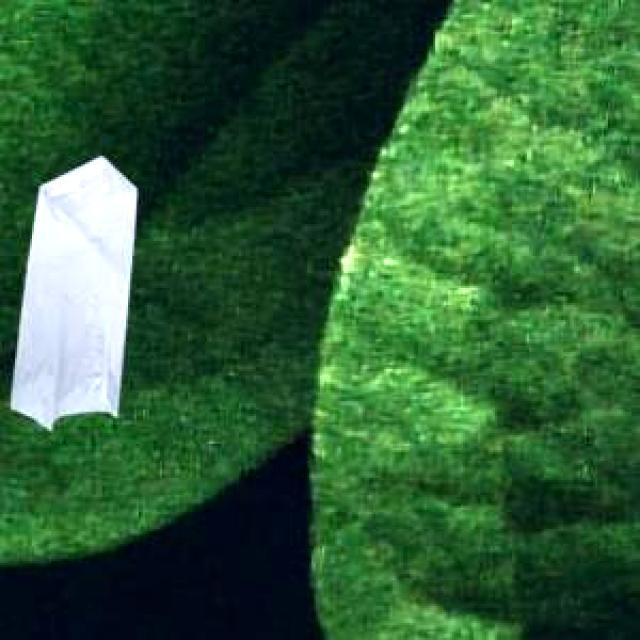Plastic_Bag: (8, 152, 134, 428)
